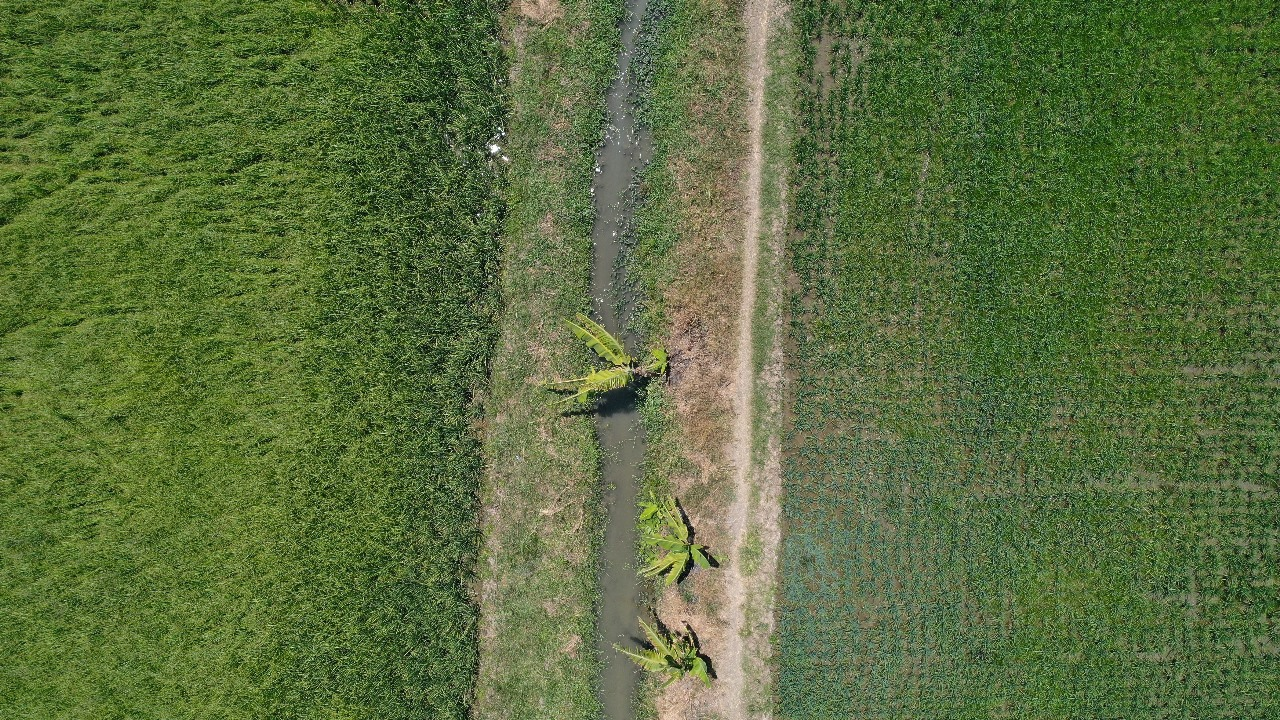irigation: (573, 1, 661, 343), (577, 384, 663, 720)
